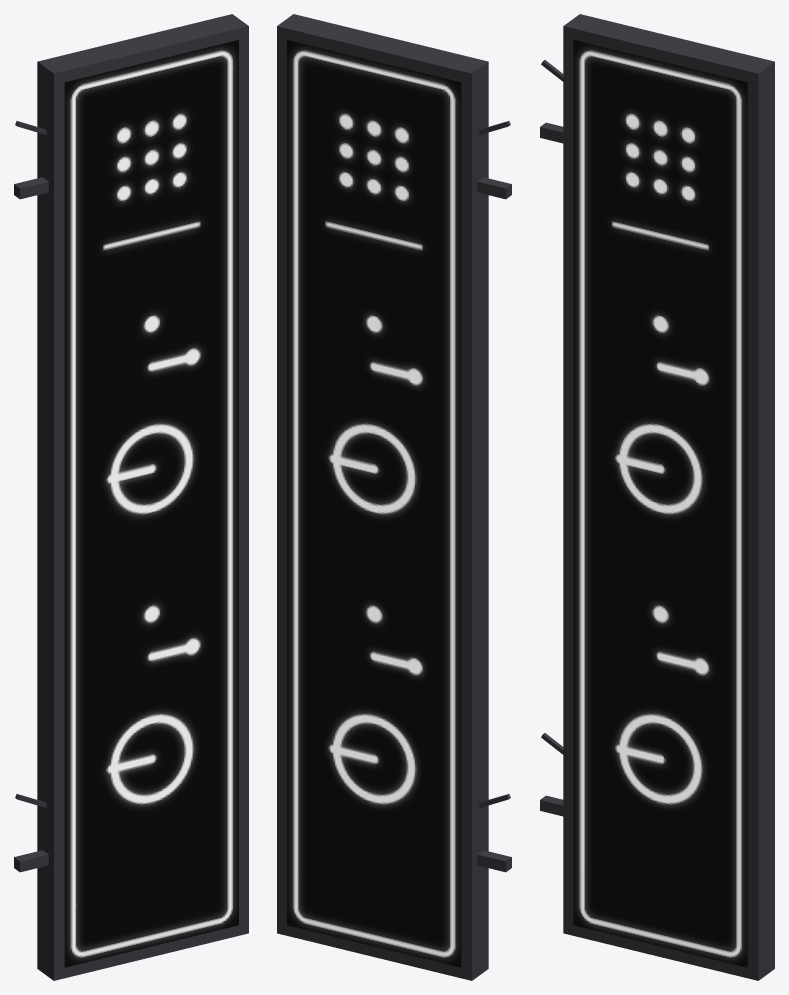
The model's file is sign_blade_1.gltf.
3 renders of one model, left to right at view 1: azimuth 30°, elevation 25°; view 2: azimuth 150°, elevation 25°; view 3: azimuth 330°, elevation 25°, orthographic.
Parts seen in each view (by area): view 1: sign_blade_1; view 2: sign_blade_1; view 3: sign_blade_1.
Boxes of the visible parts, bbox=[...] form: sign_blade_1: bbox=[14, 14, 248, 980]; sign_blade_1: bbox=[277, 14, 511, 980]; sign_blade_1: bbox=[540, 14, 774, 980].
Size of the model in its own units: 1.73 by 6.66 by 0.23.
2 materials, 1 textured.
